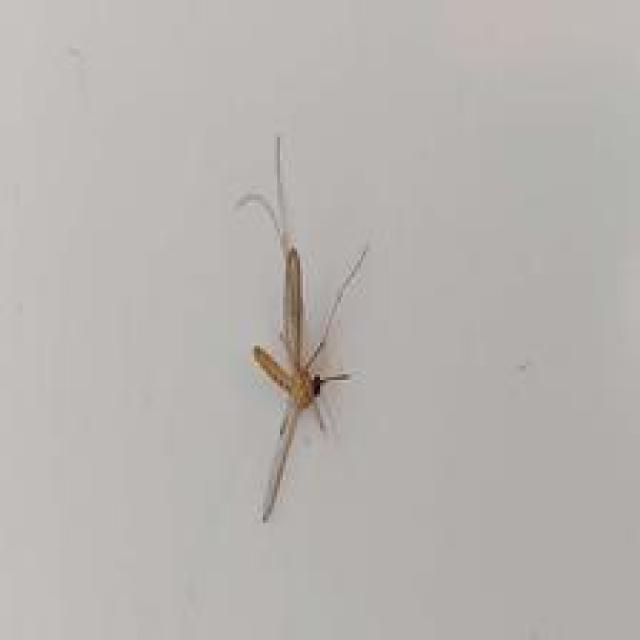Culex: (233, 134, 370, 523)
